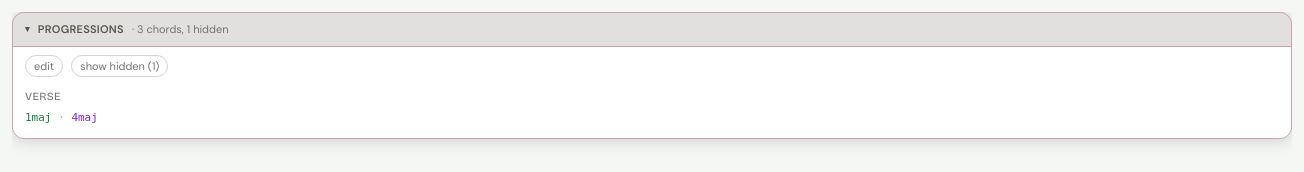
Test: hidden chords › reveals hidden chords greyed, in place, when toggled
The width and height of the screenshot is (1304, 172).
Click the button "show hidden (1)" at (120, 66), box [71, 54, 168, 77]
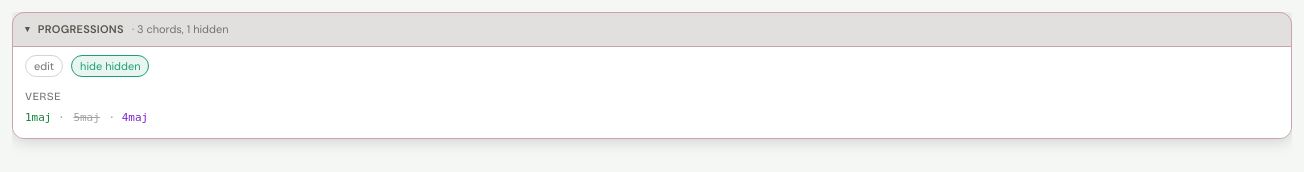
Expected: the button "5maj" is shown, [71, 110, 102, 126]
